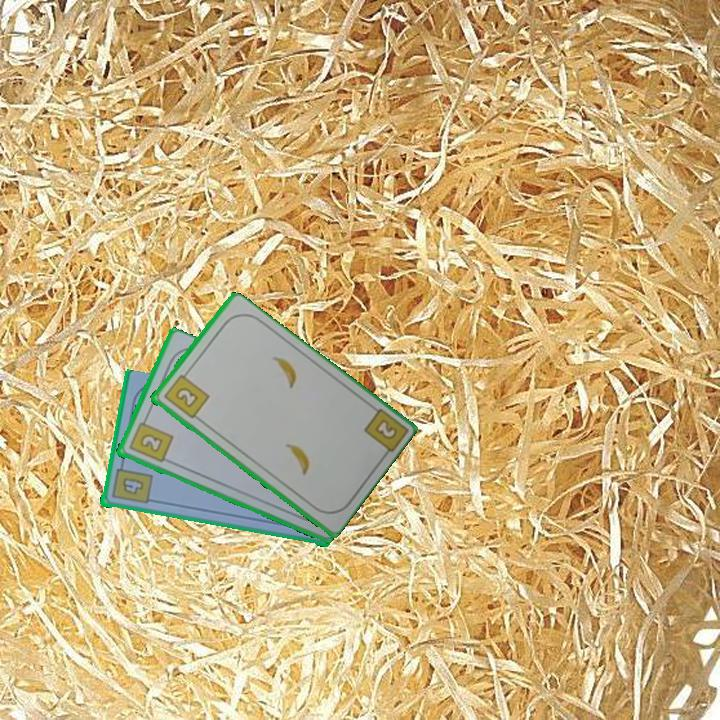2b: (160, 367, 212, 421), (125, 414, 175, 465), (371, 415, 400, 443)
4b: (108, 460, 154, 507)
